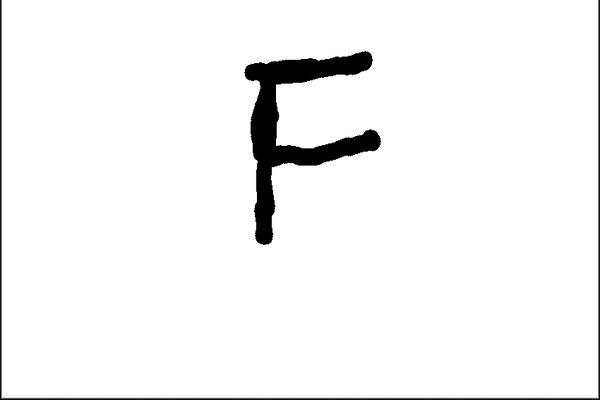F: (236, 46, 385, 248)
